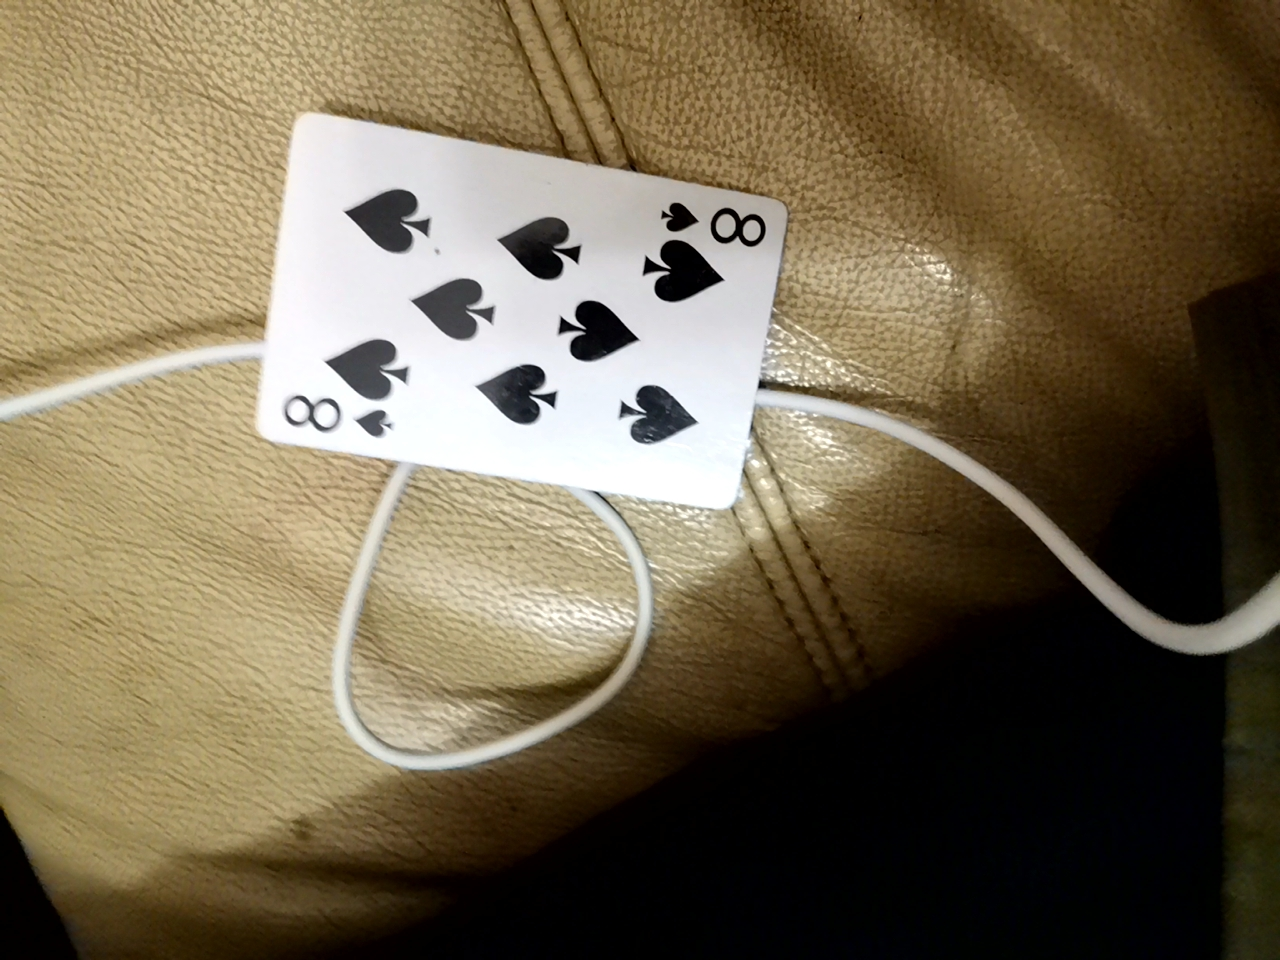ht 8: (247, 105, 784, 495)
